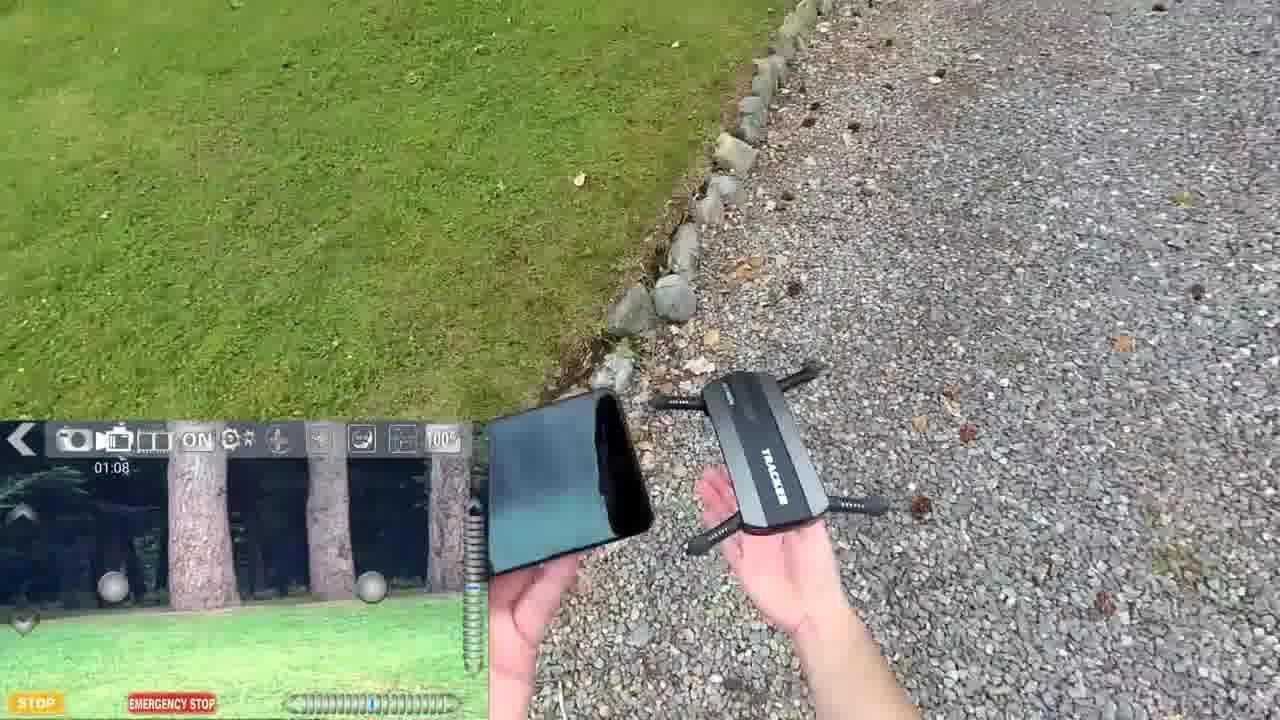drone: (637, 360, 899, 562)
